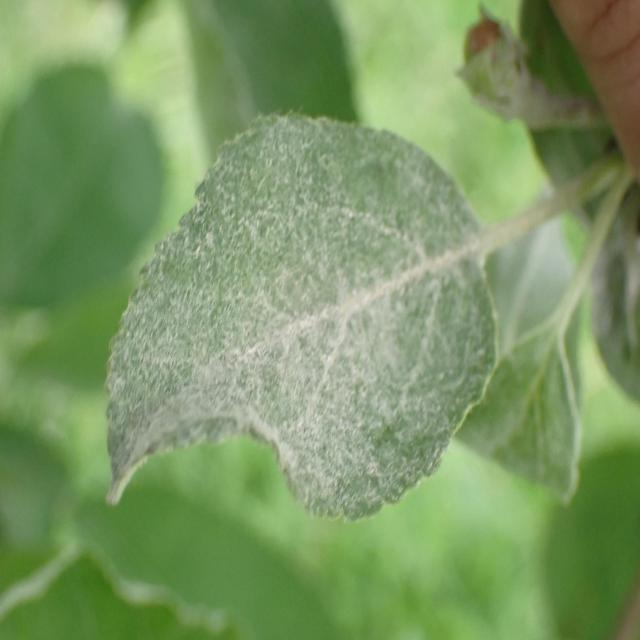Powdery_mildew: (79, 71, 497, 553), (479, 190, 595, 548), (583, 185, 640, 438)
